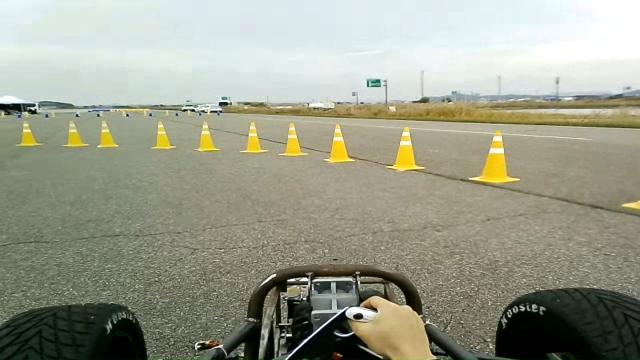yellow cone: (468, 129, 520, 184), (385, 126, 425, 171), (322, 124, 356, 162), (278, 122, 309, 156), (238, 121, 268, 153), (149, 120, 176, 150), (194, 121, 220, 152), (62, 120, 90, 147), (15, 120, 43, 146), (96, 120, 118, 148), (620, 199, 640, 210)
